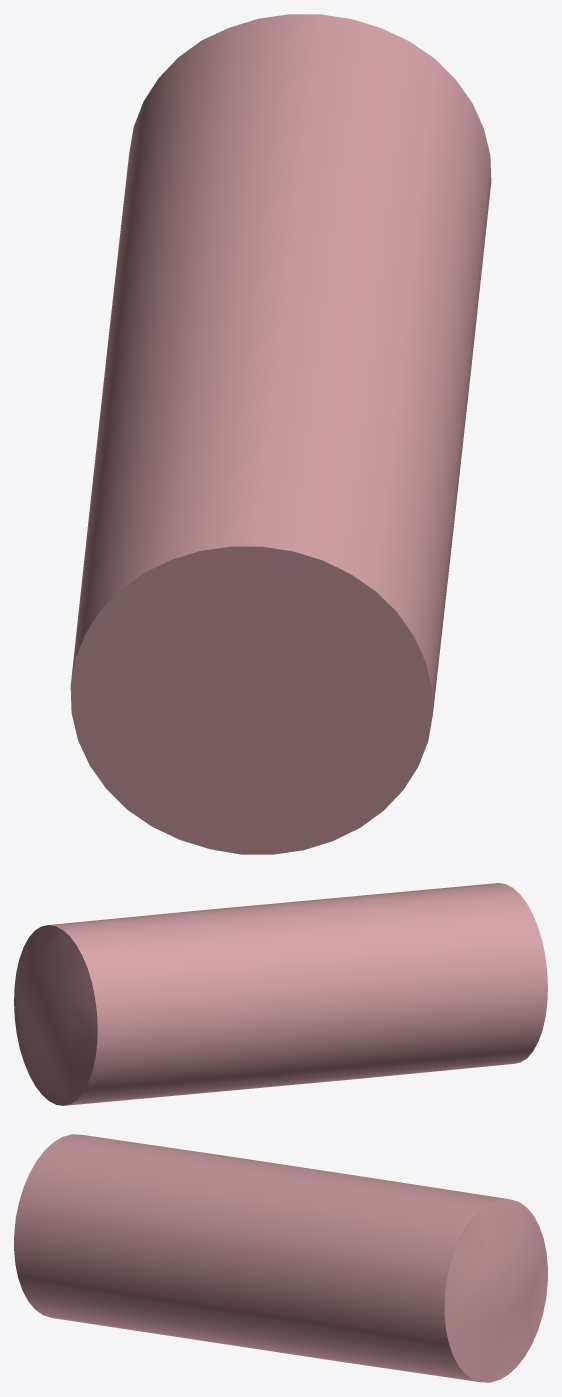
The model's file is fma239973_mm837m.glb.
The picture shows the model from 3 angles, top to bottom: view 1: azimuth 30°, elevation 25°; view 2: azimuth 150°, elevation 25°; view 3: azimuth 270°, elevation 25°; orthographic projection. The views are drawn at different scales.
Visible parts, largest first — view 1: FMA239973_MM837M; view 2: FMA239973_MM837M; view 3: FMA239973_MM837M.
Part boxes in pixels (<box>): FMA239973_MM837M: <box>70,14,491,854</box>; FMA239973_MM837M: <box>14,883,547,1105</box>; FMA239973_MM837M: <box>14,1134,547,1382</box>.
Bounding box in the file's own units: 0.0112 × 0.00623 × 0.0136.
